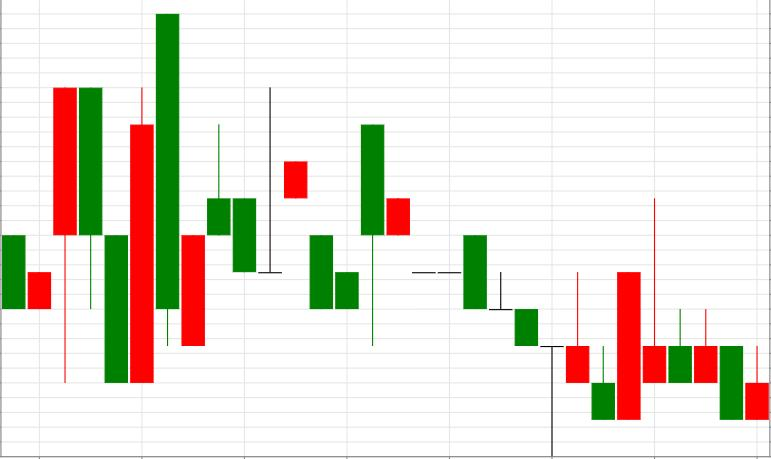bullish_engulfing_rise: (361, 124, 641, 459)
